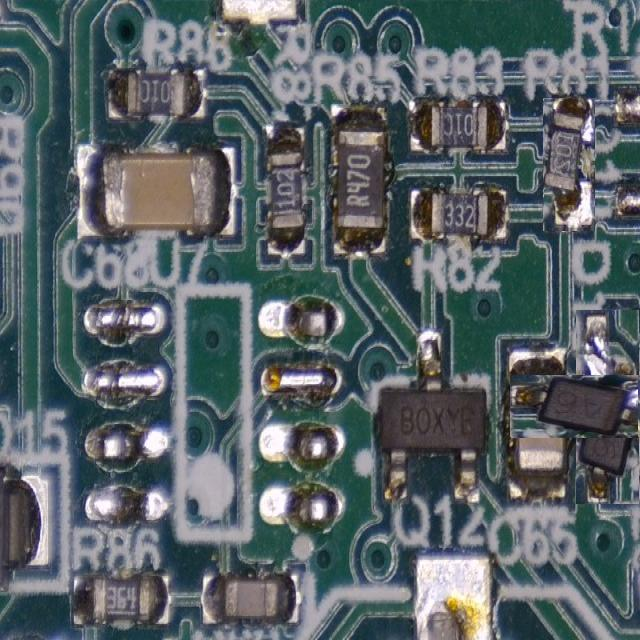Incorrect_installation: (510, 375, 639, 437), (544, 98, 595, 229)
